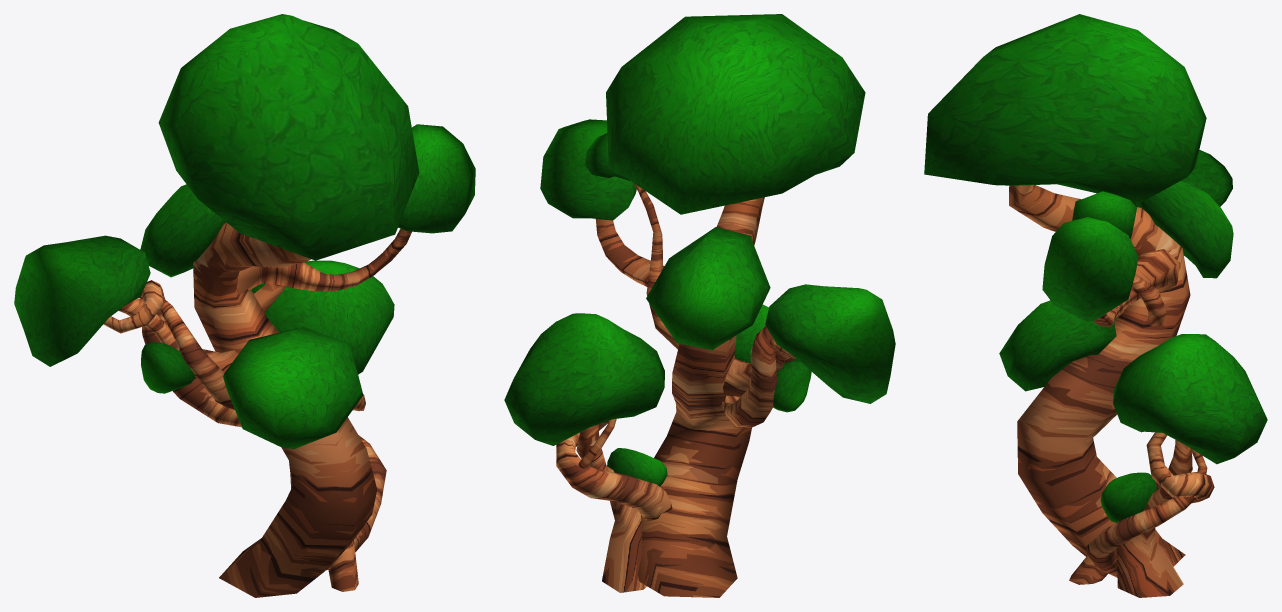
The model's file is tree 1.fbx.
3 views of the same model, side by side, from view 1: azimuth 30°, elevation 25°; view 2: azimuth 150°, elevation 25°; view 3: azimuth 270°, elevation 25° (orthographic). The views are drawn at different scales.
Visible parts, largest first — view 1: tree_1; view 2: tree_1; view 3: tree_1.
Boxes of the visible parts, <box> form: tree_1: <box>14,14,475,597</box>; tree_1: <box>504,14,895,597</box>; tree_1: <box>924,14,1267,597</box>.
Size of the model in its own units: 71.21 by 97.1 by 57.14.
